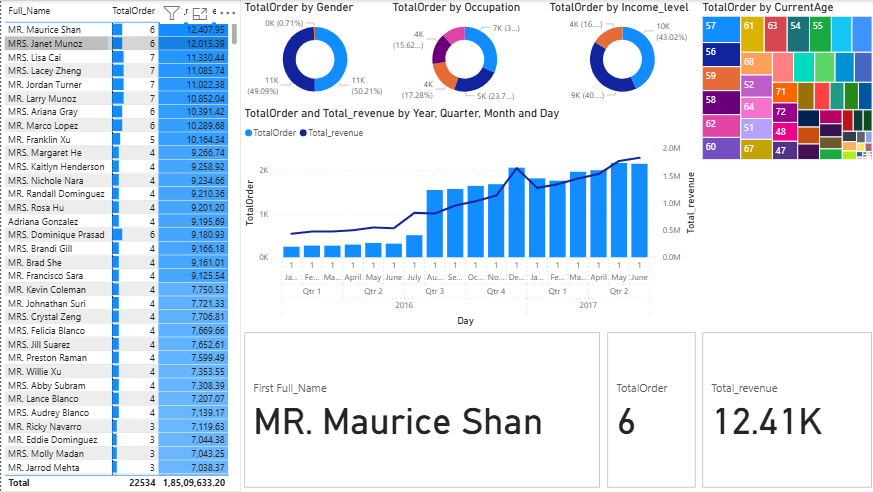

This screenshot's page, from the dashboard's own definition file:
{"tool":"powerbi","page":{"name":"Customer_details","canvas":[1280,720],"ordinal":2},"visuals":[{"type":"tableEx","fields":{"Values":["Customers_Lookup.Full_Name","Sales_Data.TotalOrder","Sales_Data.Total_revenue"]},"box":[0,0,351.4,719.7],"z":0},{"type":"donutChart","fields":{"Y":["Sales_Data.TotalOrder"],"Category":["Customers_Lookup.Gender"]},"box":[351.4,0,216.8,154.4],"z":1000},{"type":"donutChart","fields":{"Category":["Customers_Lookup.Occupation"],"Y":["Sales_Data.TotalOrder"]},"box":[568.2,0,221.7,154.4],"z":2000},{"type":"donutChart","fields":{"Y":["Sales_Data.TotalOrder"],"Category":["Customers_Lookup.Income_level"]},"box":[797.9,0,223.7,154.4],"z":3000},{"type":"lineStackedColumnComboChart","fields":{"Y":["Sales_Data.TotalOrder"],"Category":["Calendar_Lookup.Start of Month.Variation.Date Hierarchy.Year","Calendar_Lookup.Start of Month.Variation.Date Hierarchy.Quarter","Calendar_Lookup.Start of Month.Variation.Date Hierarchy.Month","Calendar_Lookup.Start of Month.Variation.Date Hierarchy.Day"],"Y2":["Sales_Data.Total_revenue"]},"box":[351.4,154.4,670.2,327.7],"z":4000},{"type":"treemap","fields":{"Values":["Sales_Data.TotalOrder"],"Group":["Customers_Lookup.CurrentAge"]},"box":[1021.6,0,258.4,238.6],"z":5000},{"type":"cardVisual","fields":{"Data":["Customers_Lookup.Full_Name"]},"box":[351.4,482.1,530.6,237.6],"z":6000},{"type":"cardVisual","fields":{"Data":["Sales_Data.TotalOrder"]},"box":[882,482.1,139.6,237.6],"z":7000},{"type":"cardVisual","fields":{"Data":["Sales_Data.Total_revenue"]},"box":[1021.6,482.1,258.4,237.6],"z":8000}]}

Visuals, with their boxes in screenshot pixels (x1, y1, x2, y2), scaled from the page's 1280x720 canvas onto the 873x492 screenshot:
tableEx - Customers_Lookup.Full_Name x Sales_Data.TotalOrder: (x1=0, y1=0, x2=240, y2=491)
donutChart - Sales_Data.TotalOrder x Customers_Lookup.Gender: (x1=240, y1=0, x2=388, y2=106)
donutChart - Customers_Lookup.Occupation x Sales_Data.TotalOrder: (x1=388, y1=0, x2=539, y2=106)
donutChart - Sales_Data.TotalOrder x Customers_Lookup.Income_level: (x1=544, y1=0, x2=697, y2=106)
lineStackedColumnComboChart - Sales_Data.TotalOrder x Calendar_Lookup.Start of Month.Variation.Date Hierarchy.Year: (x1=240, y1=106, x2=697, y2=329)
treemap - Sales_Data.TotalOrder x Customers_Lookup.CurrentAge: (x1=697, y1=0, x2=872, y2=163)
cardVisual - Customers_Lookup.Full_Name: (x1=240, y1=329, x2=602, y2=491)
cardVisual - Sales_Data.TotalOrder: (x1=602, y1=329, x2=697, y2=491)
cardVisual - Sales_Data.Total_revenue: (x1=697, y1=329, x2=872, y2=491)
